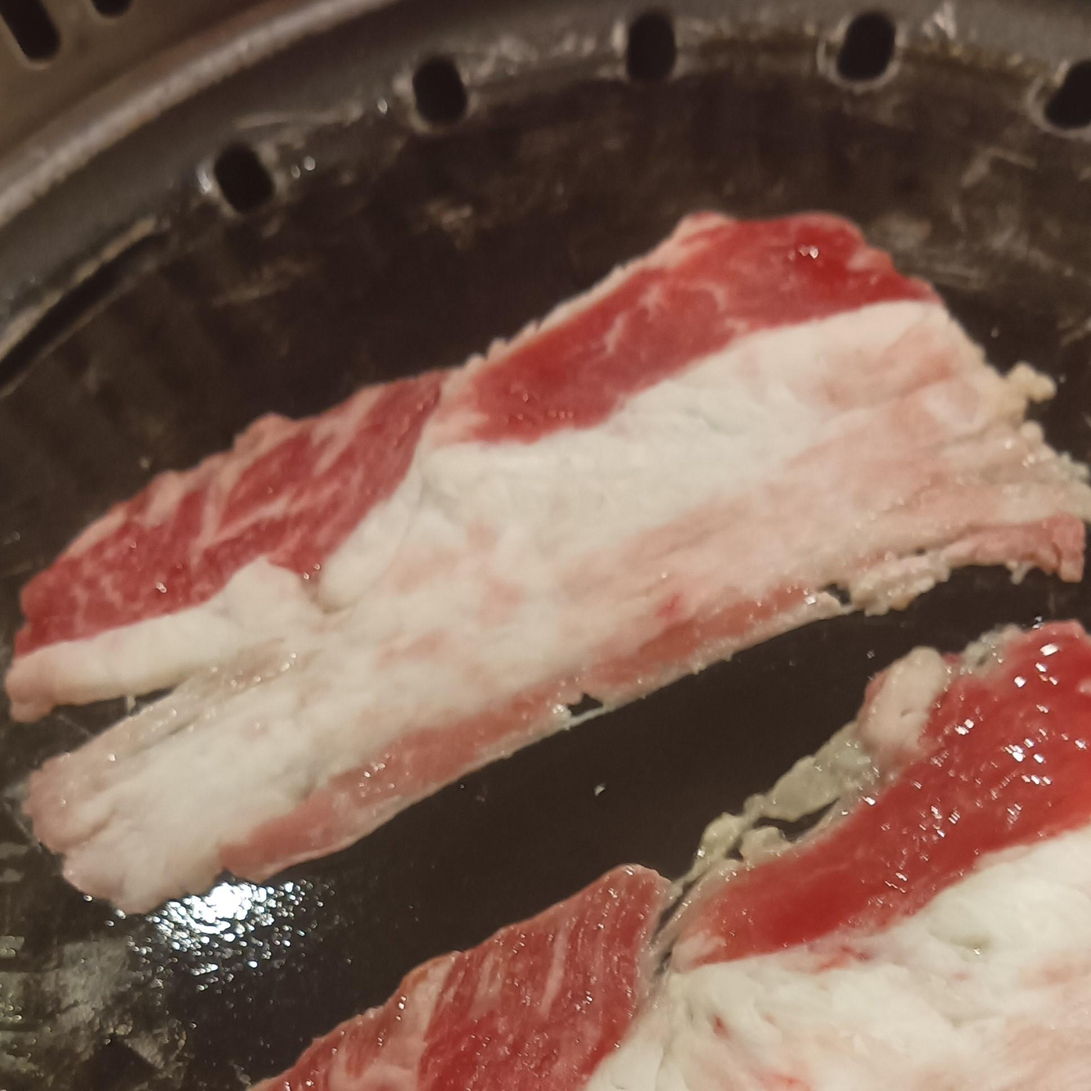Undercooked: (3, 213, 1090, 920), (455, 753, 1090, 1090), (649, 624, 1090, 977), (246, 867, 669, 1090)
